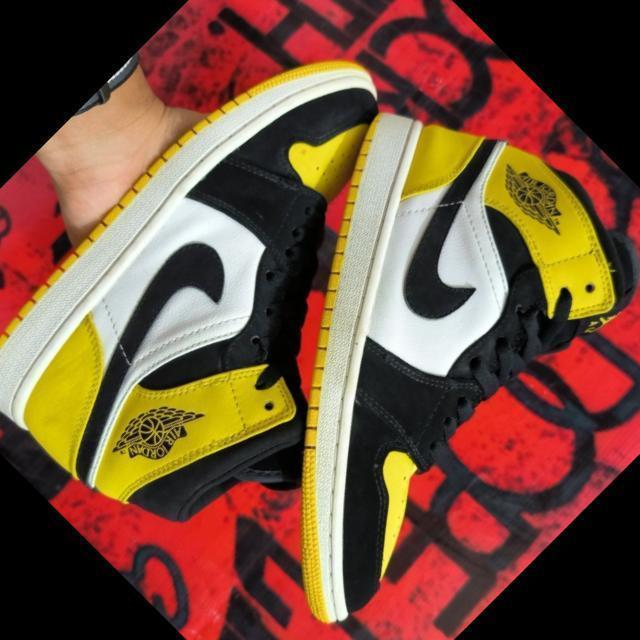nike fake jordan 1: (87, 45, 640, 640), (0, 3, 523, 579)
